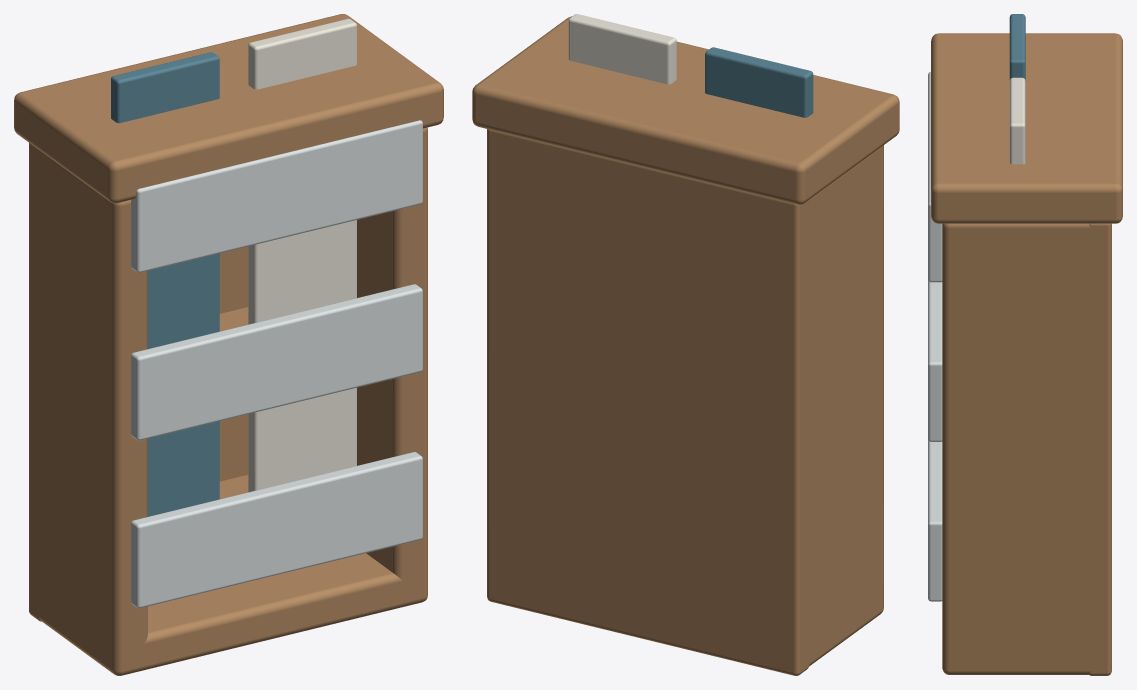
File: barbershop-and-hair-salon-magazine-rack-04aff00c__29646.glb
3 renders of one model, left to right at view 1: azimuth 30°, elevation 25°; view 2: azimuth 150°, elevation 25°; view 3: azimuth 270°, elevation 25°, orthographic. The views are drawn at different scales.
Parts seen in each view (by area): view 1: magazine-rack; view 2: magazine-rack; view 3: magazine-rack.
Boxes of the visible parts, <box> form: magazine-rack: <box>14,14,443,675</box>; magazine-rack: <box>472,14,899,675</box>; magazine-rack: <box>928,14,1122,675</box>.
Size of the model in its own units: 0.585 by 0.94 by 0.31.
